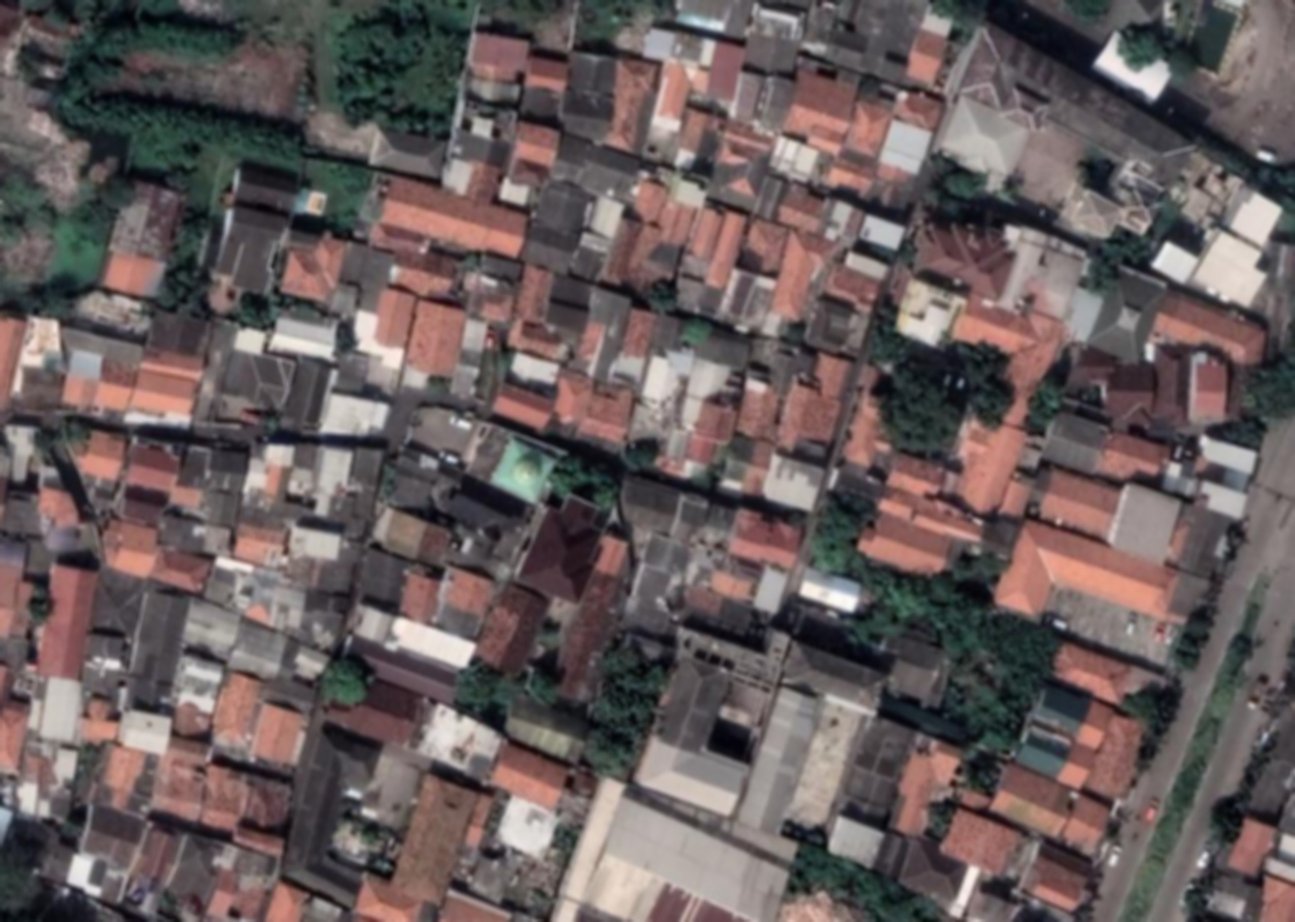building: (955, 14, 1199, 193), (550, 774, 801, 922), (630, 604, 792, 818), (991, 512, 1200, 663), (596, 787, 798, 922), (277, 716, 381, 905), (541, 529, 648, 705), (821, 69, 948, 215), (945, 17, 1073, 134), (731, 683, 827, 839), (373, 171, 532, 264), (253, 429, 385, 538), (610, 470, 753, 568), (384, 770, 483, 909), (1057, 253, 1170, 366), (512, 485, 616, 607), (903, 201, 1025, 304), (122, 306, 218, 433), (982, 219, 1092, 329), (430, 475, 539, 585), (10, 674, 90, 823), (923, 88, 1036, 193), (96, 174, 187, 303), (632, 728, 751, 819), (985, 309, 1072, 429), (1149, 287, 1274, 370), (1047, 635, 1163, 717), (942, 411, 1029, 520), (208, 552, 317, 639), (461, 416, 564, 508), (819, 0, 927, 86), (120, 585, 191, 715), (322, 665, 428, 752), (773, 346, 853, 459), (467, 577, 553, 681), (885, 733, 965, 844), (205, 195, 292, 297), (777, 637, 889, 715), (342, 634, 463, 705), (613, 528, 692, 636), (777, 60, 864, 156), (411, 698, 508, 783), (33, 559, 99, 682), (166, 435, 251, 529), (854, 506, 956, 584), (1026, 460, 1124, 540), (1188, 224, 1277, 312), (986, 759, 1080, 841), (446, 72, 525, 169), (374, 440, 464, 524), (877, 480, 989, 547), (949, 292, 1046, 369), (886, 829, 975, 910), (1103, 479, 1185, 566), (499, 691, 594, 766), (938, 801, 1027, 881), (601, 213, 683, 299), (1090, 28, 1178, 107), (7, 312, 73, 417), (1093, 153, 1174, 237), (570, 283, 637, 384), (486, 738, 574, 812), (888, 273, 969, 352), (203, 841, 282, 922), (1018, 840, 1100, 918), (1083, 709, 1151, 803), (556, 49, 623, 143), (276, 223, 350, 305), (766, 229, 828, 326), (120, 820, 186, 911), (837, 387, 906, 474), (337, 302, 411, 382), (369, 502, 456, 570), (161, 831, 228, 919), (1162, 498, 1233, 581), (149, 733, 214, 822), (604, 55, 661, 155), (402, 296, 469, 380), (443, 482, 529, 547), (384, 614, 477, 673), (898, 5, 962, 90), (725, 505, 806, 572), (74, 801, 148, 874), (1053, 176, 1128, 248), (283, 527, 361, 596), (725, 63, 798, 136), (309, 724, 384, 795), (206, 668, 268, 753), (1037, 406, 1112, 476), (740, 0, 807, 77), (1096, 425, 1173, 491), (885, 632, 951, 709), (488, 434, 559, 505), (278, 353, 337, 435), (612, 471, 685, 537), (492, 793, 562, 861), (606, 303, 662, 388), (71, 281, 156, 337), (85, 567, 149, 641), (802, 293, 872, 359), (333, 239, 396, 312), (405, 399, 480, 459), (226, 616, 293, 683), (176, 596, 244, 662), (367, 124, 448, 179), (705, 146, 771, 213), (576, 140, 644, 205), (737, 508, 805, 572), (539, 272, 597, 347), (248, 700, 311, 769), (232, 347, 297, 413), (96, 515, 163, 579), (576, 380, 639, 448), (844, 83, 898, 160), (759, 451, 826, 513), (716, 431, 776, 500), (701, 208, 750, 292), (57, 320, 146, 366), (716, 265, 778, 331), (127, 367, 200, 423), (1174, 165, 1236, 230), (464, 26, 532, 85), (1224, 185, 1286, 249), (229, 160, 302, 214), (795, 562, 866, 617), (93, 741, 148, 812), (822, 810, 888, 869), (318, 389, 391, 442), (1030, 677, 1094, 737), (293, 586, 351, 652), (1224, 811, 1280, 879), (531, 177, 593, 238), (463, 840, 521, 905), (1058, 790, 1115, 856), (1060, 341, 1120, 403), (1012, 721, 1075, 780), (27, 474, 85, 538), (437, 151, 503, 207), (672, 104, 725, 173), (168, 651, 226, 714), (200, 762, 252, 832), (882, 448, 949, 502), (490, 378, 557, 432), (354, 873, 429, 921), (460, 269, 522, 327), (680, 582, 754, 630), (876, 116, 934, 177), (235, 771, 293, 832), (733, 374, 785, 442), (389, 247, 458, 298), (149, 541, 214, 595), (70, 425, 130, 483), (268, 311, 339, 360), (680, 202, 727, 276), (437, 563, 499, 619), (36, 675, 86, 744), (737, 215, 792, 277), (1149, 345, 1190, 428), (821, 259, 884, 313), (960, 872, 1027, 922), (1202, 868, 1264, 922), (1186, 350, 1230, 426), (124, 438, 183, 494), (705, 551, 765, 606), (369, 284, 418, 351), (692, 321, 755, 373), (519, 222, 580, 275), (774, 181, 832, 236), (1102, 362, 1156, 421), (0, 310, 27, 424), (1193, 432, 1260, 477), (702, 37, 747, 104), (115, 705, 174, 756), (259, 668, 321, 716), (230, 522, 291, 570), (766, 133, 823, 184), (511, 263, 556, 326), (396, 566, 444, 625), (641, 24, 705, 68), (1148, 235, 1202, 287), (638, 351, 684, 412), (719, 119, 775, 169), (0, 537, 28, 637), (91, 358, 139, 416), (33, 827, 80, 886), (512, 318, 572, 364), (509, 118, 563, 169), (82, 628, 129, 686), (652, 60, 695, 123), (651, 195, 700, 250), (668, 272, 724, 320), (891, 84, 946, 132), (61, 849, 112, 899), (691, 394, 740, 446), (156, 510, 212, 555), (1193, 477, 1250, 521), (539, 297, 591, 345), (683, 355, 732, 405), (670, 490, 713, 546), (1055, 739, 1100, 792), (115, 484, 168, 529), (568, 230, 613, 283), (438, 889, 512, 921), (626, 174, 672, 225), (230, 819, 288, 859), (506, 349, 561, 391), (0, 487, 47, 536), (552, 370, 593, 426), (549, 132, 592, 185), (79, 694, 122, 746), (1074, 698, 1116, 751), (762, 343, 803, 397), (522, 51, 572, 95), (473, 246, 525, 288), (751, 563, 791, 616), (264, 877, 311, 922), (856, 211, 907, 252), (0, 699, 28, 773), (584, 193, 627, 241), (58, 367, 100, 412), (819, 197, 858, 245), (4, 424, 36, 482), (956, 49, 993, 99), (1115, 197, 1157, 238), (841, 247, 890, 282), (1259, 873, 1294, 921), (206, 870, 236, 921), (680, 432, 719, 471), (289, 518, 334, 551), (335, 350, 369, 393), (650, 312, 685, 353), (172, 702, 212, 737), (49, 744, 80, 787), (15, 780, 49, 818), (496, 175, 533, 207), (232, 325, 268, 356), (303, 896, 346, 921), (0, 635, 29, 671), (1263, 854, 1295, 883), (1278, 832, 1294, 861), (72, 350, 101, 363)
tree: (68, 87, 305, 163), (861, 355, 976, 467), (26, 14, 138, 123), (853, 554, 938, 627), (911, 149, 990, 224), (923, 580, 1001, 655), (806, 491, 873, 575), (955, 334, 1014, 429), (125, 15, 238, 63), (151, 256, 219, 321), (447, 654, 511, 718), (586, 681, 652, 740), (1012, 374, 1073, 437), (576, 718, 635, 780), (975, 603, 1036, 662), (857, 309, 916, 370), (0, 172, 52, 241), (334, 16, 401, 64), (1114, 15, 1172, 69), (1166, 613, 1217, 674), (167, 203, 214, 269), (538, 445, 594, 499), (332, 60, 399, 105), (1192, 133, 1255, 180), (1, 840, 42, 909), (1247, 356, 1291, 419), (66, 200, 116, 254), (390, 11, 430, 78), (840, 864, 891, 915), (329, 152, 379, 204), (1118, 679, 1167, 728), (598, 640, 648, 688), (789, 836, 836, 887), (1165, 756, 1208, 811), (1221, 406, 1270, 454), (844, 605, 901, 646), (319, 655, 367, 703), (953, 749, 1001, 797), (430, 31, 477, 78), (418, 63, 464, 109), (6, 37, 53, 82), (1018, 621, 1062, 669), (19, 280, 74, 318), (618, 430, 665, 474), (1159, 42, 1204, 87), (639, 273, 685, 317), (520, 666, 564, 709), (1242, 156, 1285, 200), (629, 659, 674, 701), (1099, 227, 1153, 262), (1222, 624, 1267, 666), (928, 1, 989, 31), (819, 854, 861, 897), (1081, 251, 1120, 295), (877, 887, 927, 921), (1146, 193, 1183, 238), (676, 309, 716, 349), (1207, 802, 1241, 848), (979, 715, 1020, 753), (1177, 875, 1214, 916), (990, 689, 1029, 727), (95, 175, 135, 212), (339, 92, 379, 128), (919, 799, 956, 836), (988, 170, 1024, 208), (325, 200, 361, 238), (370, 106, 426, 130), (546, 818, 583, 854), (54, 412, 89, 450), (953, 554, 1003, 580), (591, 466, 619, 511), (496, 673, 527, 713), (132, 63, 167, 98), (72, 0, 112, 30), (937, 683, 970, 718), (1062, 0, 1108, 25), (877, 243, 917, 271), (689, 459, 722, 491), (171, 142, 204, 173), (1077, 157, 1108, 190), (533, 618, 564, 650), (1009, 663, 1041, 693), (237, 293, 263, 327), (27, 425, 57, 454), (521, 884, 551, 913), (927, 572, 956, 601), (328, 324, 356, 354), (57, 810, 85, 839), (42, 4, 70, 32), (781, 318, 808, 347), (423, 112, 449, 138), (491, 348, 517, 372), (29, 587, 47, 621), (162, 169, 192, 189), (425, 372, 449, 396), (378, 464, 394, 500), (79, 744, 102, 769), (1279, 194, 1294, 230), (142, 1, 175, 15), (431, 23, 452, 44), (369, 851, 389, 872), (357, 824, 376, 844), (18, 0, 50, 10), (1278, 168, 1292, 190), (265, 414, 279, 430), (295, 299, 309, 314)
